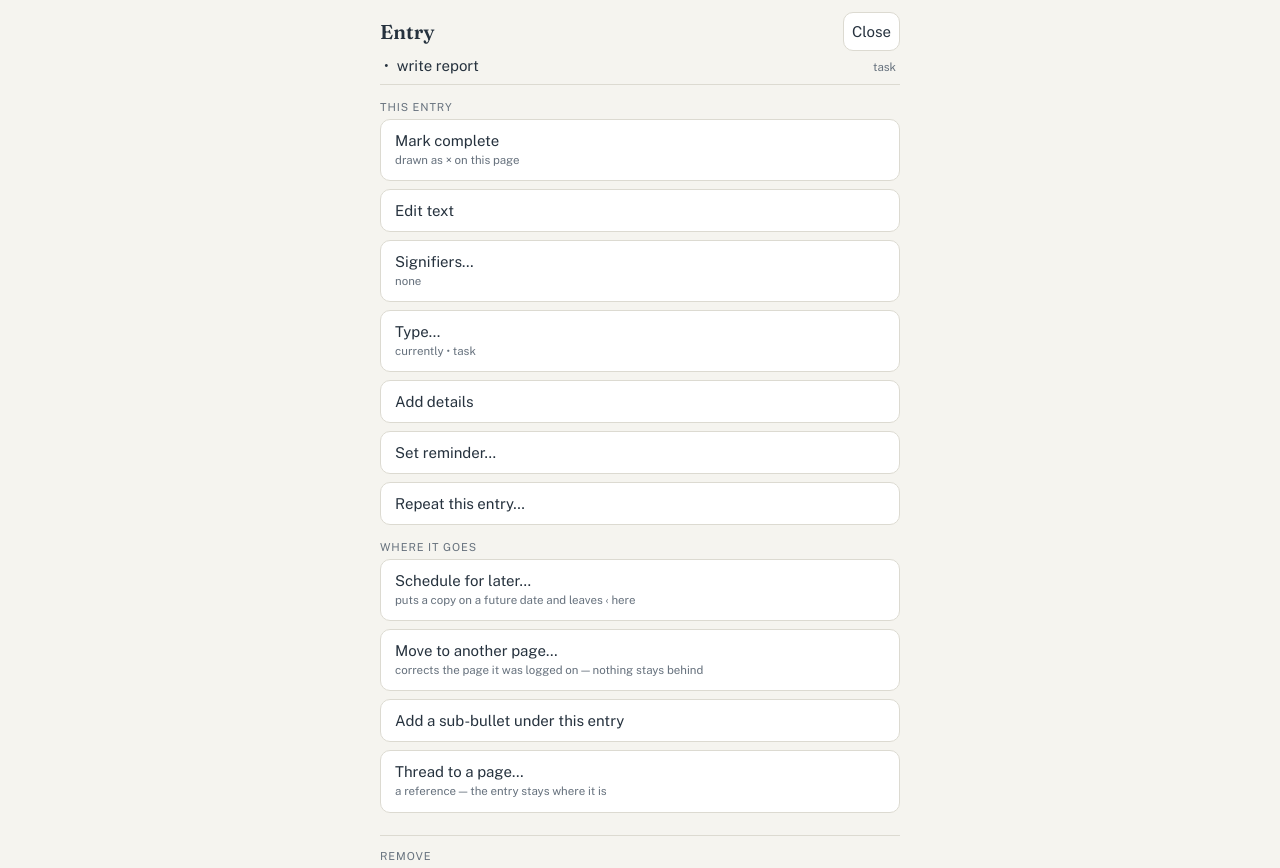
thread picker sub-view › lists list collections and the current period pages, not the entry's own page
What coordinates should you click on to do the following:
click the button "Thread to a page… a reference — the entry stays where it is"
I would click on:
 (459, 772)
Its box is [380, 750, 900, 813].
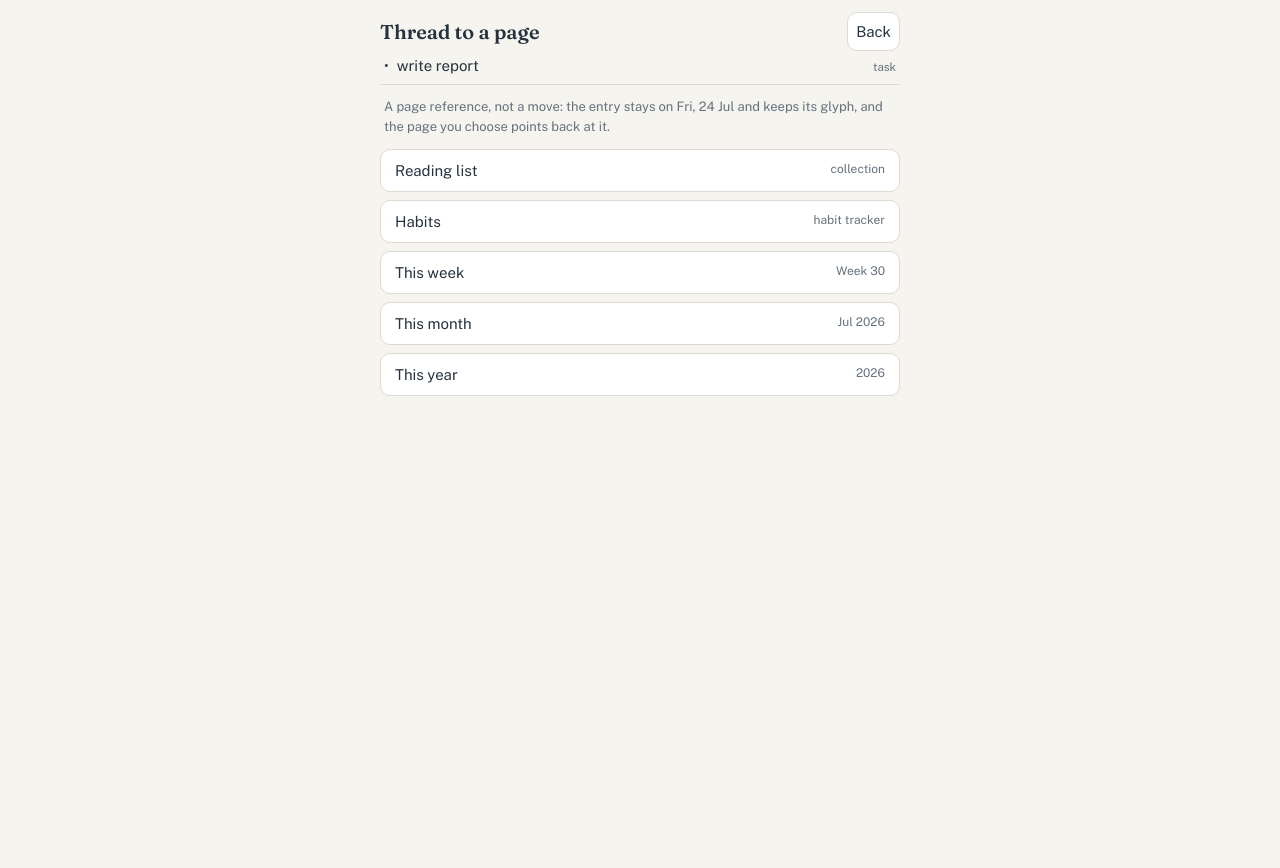
Expected: the button with aria-label "Thread to Reading list" is shown, [380, 149, 900, 192]
Expected: the button with aria-label "Thread to Habits" is shown, [380, 200, 900, 243]
Expected: the button with aria-label "Thread to This week" is shown, [380, 251, 900, 294]
